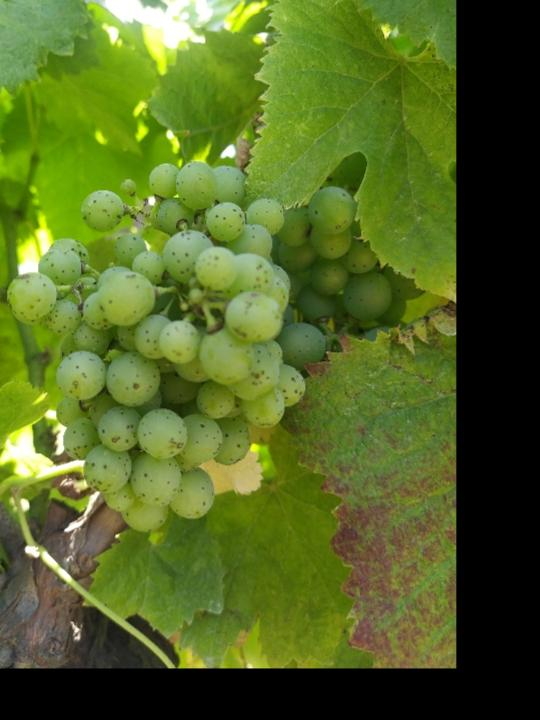grape: (8, 158, 310, 535)
